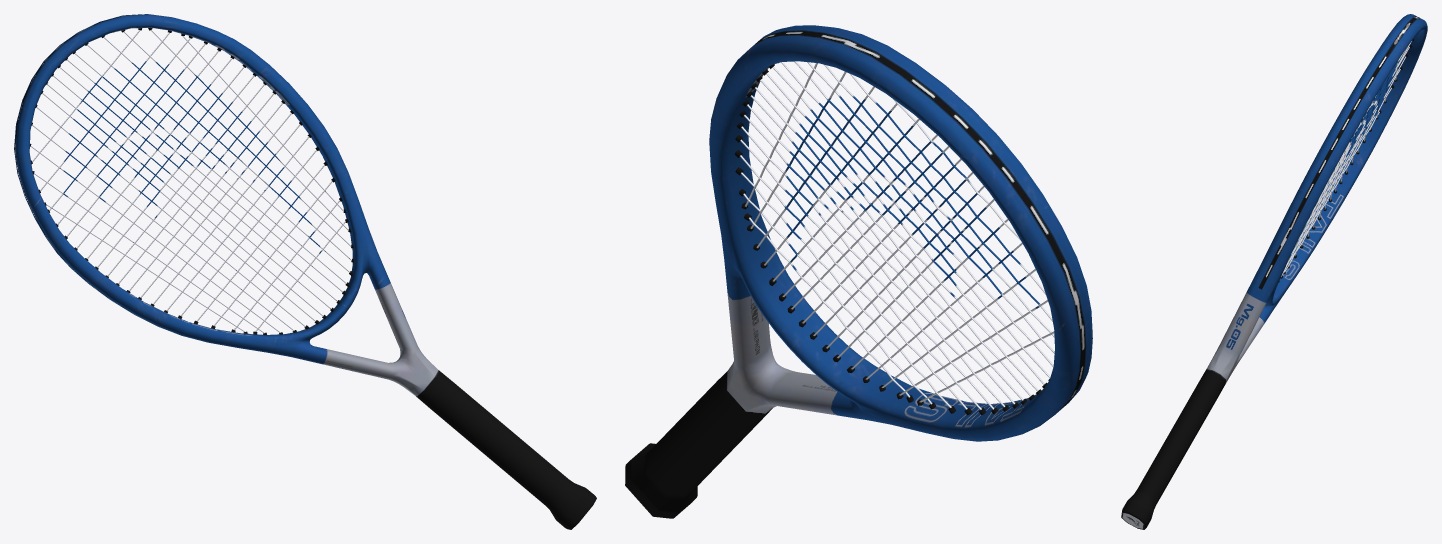
Rendered from raqueta.glb.
The picture shows the model from 3 angles, left to right: view 1: azimuth 30°, elevation 25°; view 2: azimuth 150°, elevation 25°; view 3: azimuth 270°, elevation 25°; orthographic projection. The views are drawn at different scales.
Visible parts, largest first — view 1: Tails_PowerShoot_r_low, Tails_PowerShoot_l_low, Tails_PowerShoot_lt_low; view 2: Tails_PowerShoot_r_low, Tails_PowerShoot_l_low, Tails_PowerShoot_lt_low; view 3: Tails_PowerShoot_r_low, Tails_PowerShoot_l_low.
Part boxes in pixels (x1=…): Tails_PowerShoot_r_low: x1=14, y1=14, x2=596, y2=529; Tails_PowerShoot_l_low: x1=30, y1=30, x2=351, y2=333; Tails_PowerShoot_lt_low: x1=30, y1=28, x2=354, y2=335; Tails_PowerShoot_r_low: x1=625, y1=25, x2=1092, y2=518; Tails_PowerShoot_l_low: x1=740, y1=61, x2=1054, y2=409; Tails_PowerShoot_lt_low: x1=734, y1=63, x2=1049, y2=415; Tails_PowerShoot_r_low: x1=1121, y1=14, x2=1427, y2=529; Tails_PowerShoot_l_low: x1=1281, y1=41, x2=1411, y2=276.
Size of the model in its own units: 48.43 by 50.92 by 36.16.
Materials: 1 (1 with a texture image).
